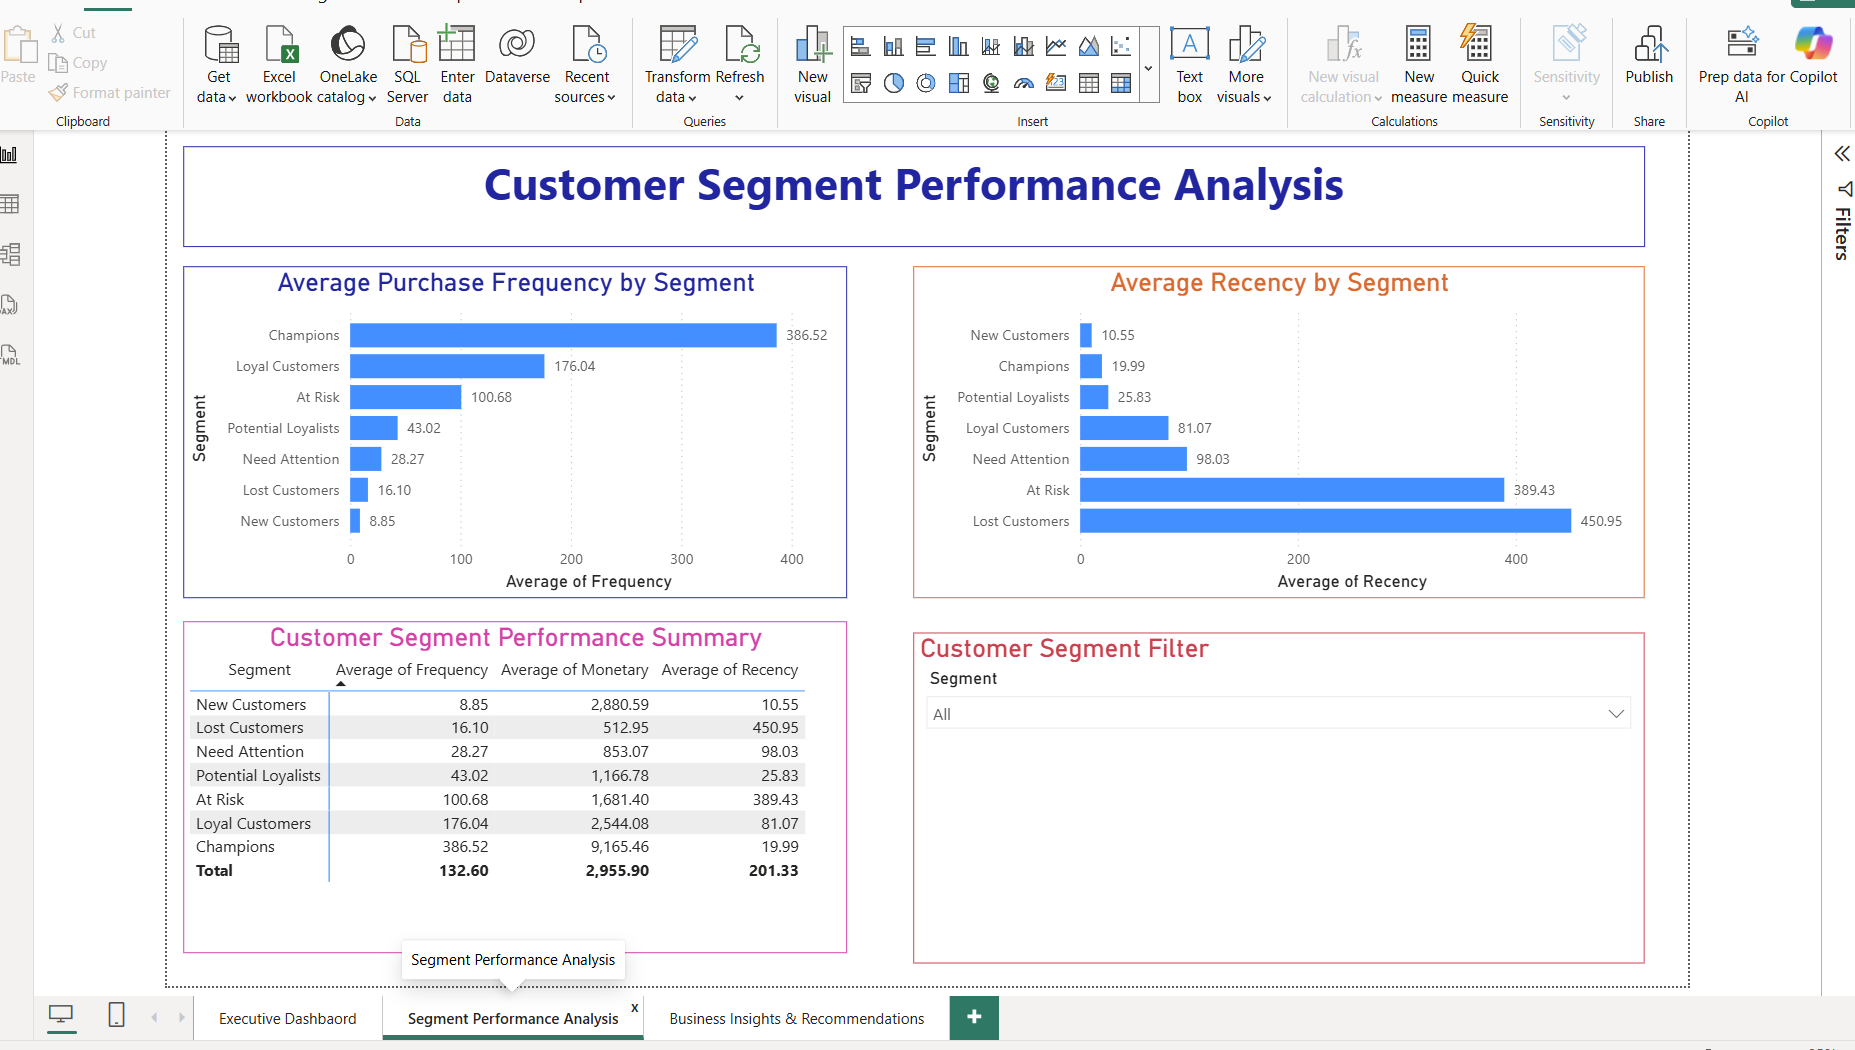

Layout of this report page (visuals, bound fields, positions):
{"tool":"powerbi","page":{"name":"Segment Performance Analysis","canvas":[1280,720],"ordinal":1},"visuals":[{"type":"clusteredBarChart","title":"Average Purchase Frequency by Segment","fields":{"Category":["Customer_RFM_Segmentation.Segment"],"Y":["Avg(Customer_RFM_Segmentation.Frequency)"]},"box":[13.2,115.1,558.5,279.3],"z":0},{"type":"clusteredBarChart","title":"Average Recency by Segment","fields":{"Category":["Customer_RFM_Segmentation.Segment"],"Y":["Avg(Customer_RFM_Segmentation.Recency)"]},"box":[628,115.1,614.8,279.3],"z":1},{"type":"pivotTable","title":"Customer Segment Performance Summary","fields":{"Values":["Avg(Customer_RFM_Segmentation.Frequency)","Avg(Customer_RFM_Segmentation.Monetary)","Avg(Customer_RFM_Segmentation.Recency)"],"Rows":["Customer_RFM_Segmentation.Segment"]},"box":[13.2,413.5,558.5,279.3],"z":2},{"type":"textbox","box":[13.2,13.2,1229.7,85.1],"z":3},{"type":"slicer","title":"Customer Segment Filter","fields":{"Values":["Customer_RFM_Segmentation.Segment"]},"box":[628,423.1,614.8,278.1],"z":4}]}

Visuals, with their boxes on the page's 1280x720 design canvas (x1, y1, x2, y2). These are canvas units, not pixel positions in the 1855x1050 screenshot, which may show the page scaled, cropped or inside an application window:
"Average Purchase Frequency by Segment" clusteredBarChart: 13, 115, 572, 394
"Average Recency by Segment" clusteredBarChart: 628, 115, 1243, 394
"Customer Segment Performance Summary" pivotTable: 13, 414, 572, 693
textbox: 13, 13, 1243, 98
"Customer Segment Filter" slicer: 628, 423, 1243, 701
